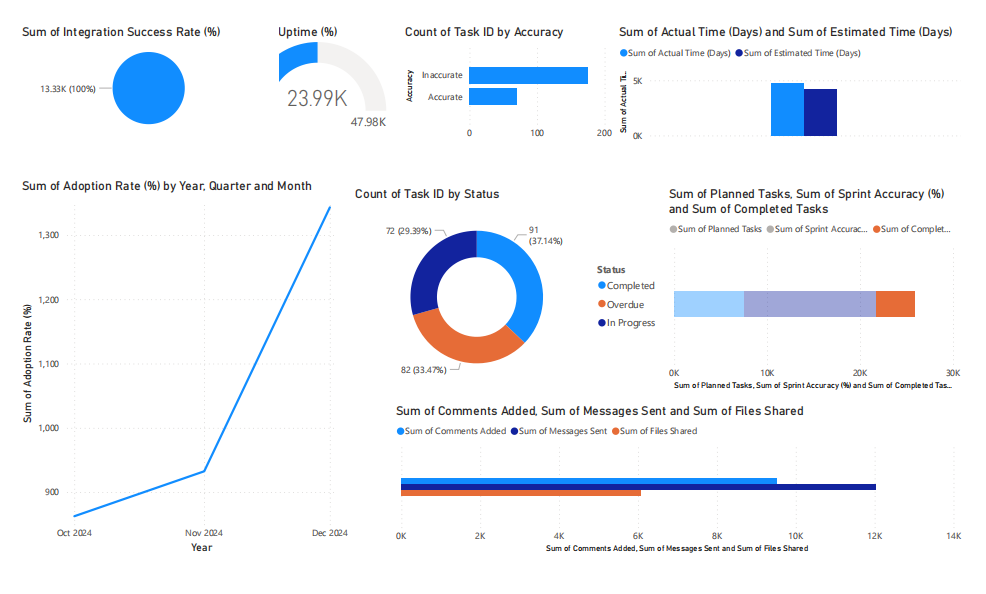

What the dashboard file says about the page in this screenshot:
{"tool":"powerbi","page":{"name":"Page 1","canvas":[1280,720],"ordinal":0},"visuals":[{"type":"donutChart","fields":{"Category":["kpi_data.Status"],"Y":["CountNonNull(kpi_data.Task ID)"]},"box":[451.5,219.6,425.4,279.9],"z":0},{"type":"gauge","fields":{"Y":["Sum(kpi_data.Uptime (%))"]},"box":[290.9,0,227.8,153.7],"z":1000},{"type":"clusteredBarChart","fields":{"Category":["kpi_data.Accuracy"],"Y":["CountNonNull(kpi_data.Task ID)"]},"box":[518.7,0,289.5,164.7],"z":2000},{"type":"lineChart","fields":{"Category":["kpi_data.Bug Reported Date.Variation.Date Hierarchy.Year","kpi_data.Bug Reported Date.Variation.Date Hierarchy.Quarter","kpi_data.Bug Reported Date.Variation.Date Hierarchy.Month","kpi_data.Bug Reported Date.Variation.Date Hierarchy.Day"],"Y":["Sum(kpi_data.Adoption Rate (%))"]},"box":[0,208.6,451.5,511.8],"z":3000},{"type":"clusteredBarChart","fields":{"Y":["Sum(kpi_data.Comments Added)","Sum(kpi_data.Messages Sent)","Sum(kpi_data.Files Shared)"]},"box":[506.3,511.8,773.9,208.6],"z":4000},{"type":"clusteredColumnChart","fields":{"Y":["Sum(kpi_data.Actual Time (Days))","Sum(kpi_data.Estimated Time (Days))"]},"box":[808.2,0,472,164.7],"z":5000},{"type":"pieChart","fields":{"Y":["Sum(kpi_data.Integration Success Rate (%))"]},"box":[0,0,352.7,153.7],"z":5002},{"type":"barChart","fields":{"Y":["Sum(kpi_data.Planned Tasks)","Sum(kpi_data.Sprint Accuracy (%))","Sum(kpi_data.Completed Tasks)"]},"box":[876,220,404,280],"z":5003}]}

Visuals, with their boxes on the page's 1280x720 design canvas (x1, y1, x2, y2). These are canvas units, not pixel positions in the 986x594 screenshot, which may show the page scaled, cropped or inside an application window:
donutChart - kpi_data.Status x CountNonNull(kpi_data.Task ID): detection(452, 220, 877, 500)
gauge - Sum(kpi_data.Uptime (%)): detection(291, 0, 519, 154)
clusteredBarChart - kpi_data.Accuracy x CountNonNull(kpi_data.Task ID): detection(519, 0, 808, 165)
lineChart - kpi_data.Bug Reported Date.Variation.Date Hierarchy.Year x kpi_data.Bug Reported Date.Variation.Date Hierarchy.Quarter: detection(0, 209, 452, 720)
clusteredBarChart - Sum(kpi_data.Comments Added) x Sum(kpi_data.Messages Sent): detection(506, 512, 1280, 720)
clusteredColumnChart - Sum(kpi_data.Actual Time (Days)) x Sum(kpi_data.Estimated Time (Days)): detection(808, 0, 1280, 165)
pieChart - Sum(kpi_data.Integration Success Rate (%)): detection(0, 0, 353, 154)
barChart - Sum(kpi_data.Planned Tasks) x Sum(kpi_data.Sprint Accuracy (%)): detection(876, 220, 1280, 500)
